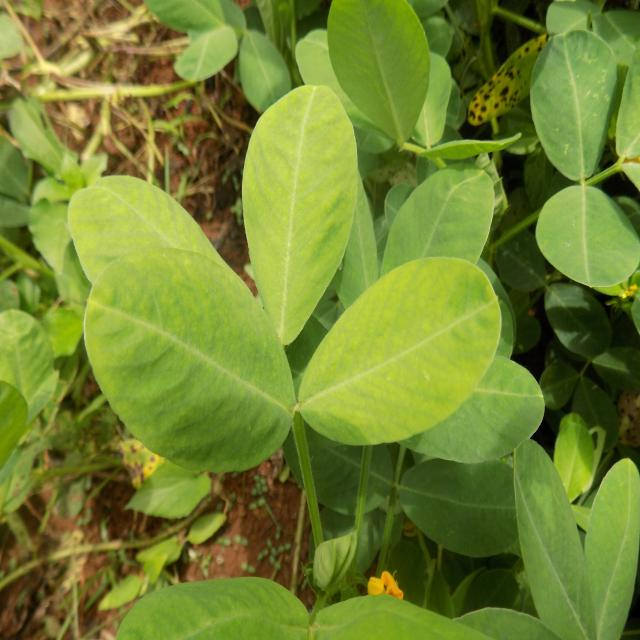Ground nut_healthy: (83, 250, 294, 470), (303, 257, 502, 447), (243, 86, 358, 341), (70, 177, 260, 328), (531, 28, 640, 286), (332, 0, 431, 146), (384, 169, 496, 285)
